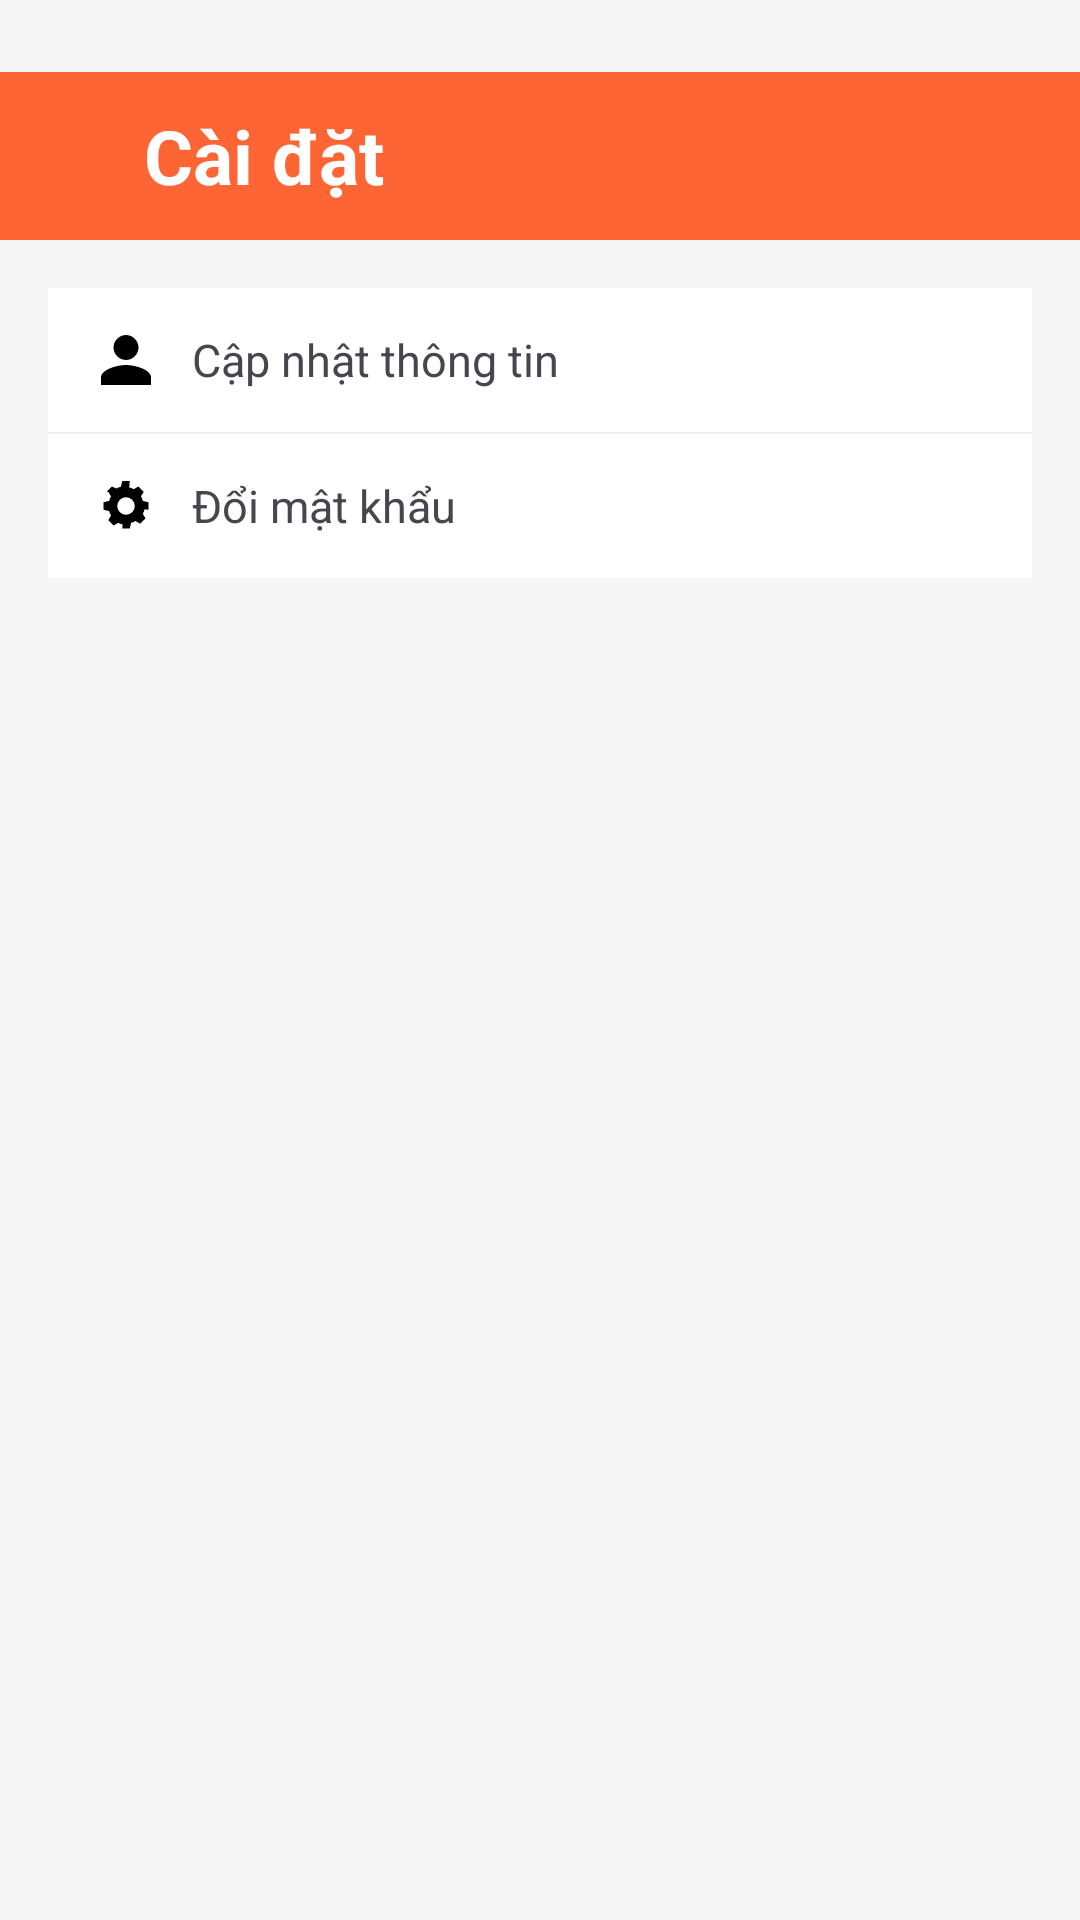

Icons on this 1080*1920 Android screen, each with its box as (x1, y1, x2, y2):
setting: (103, 481, 149, 529)
user: (101, 335, 151, 385)
